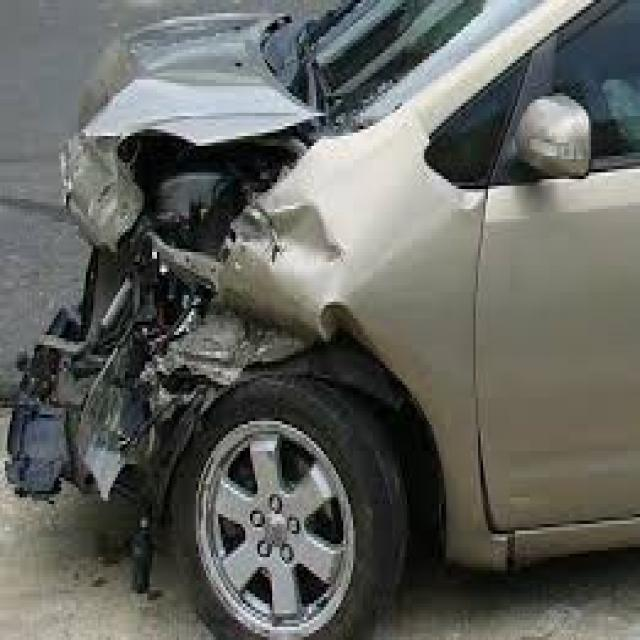severe: (0, 7, 384, 579)
